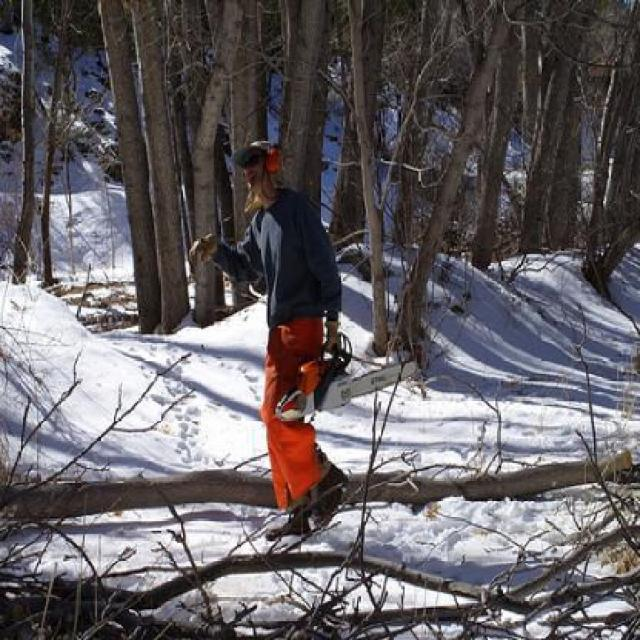Chainsaw: (274, 340, 420, 422)
